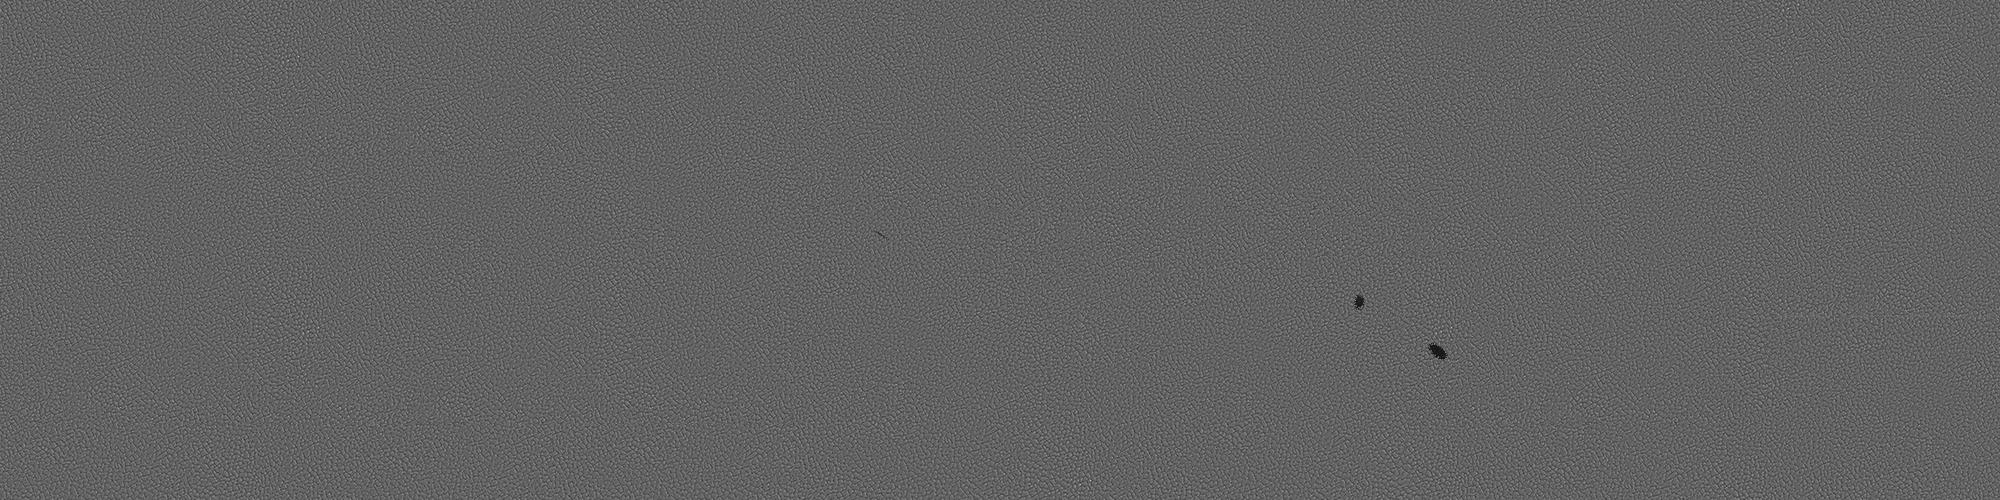Decomposed: (1421, 339, 1453, 364), (1349, 293, 1371, 311)
